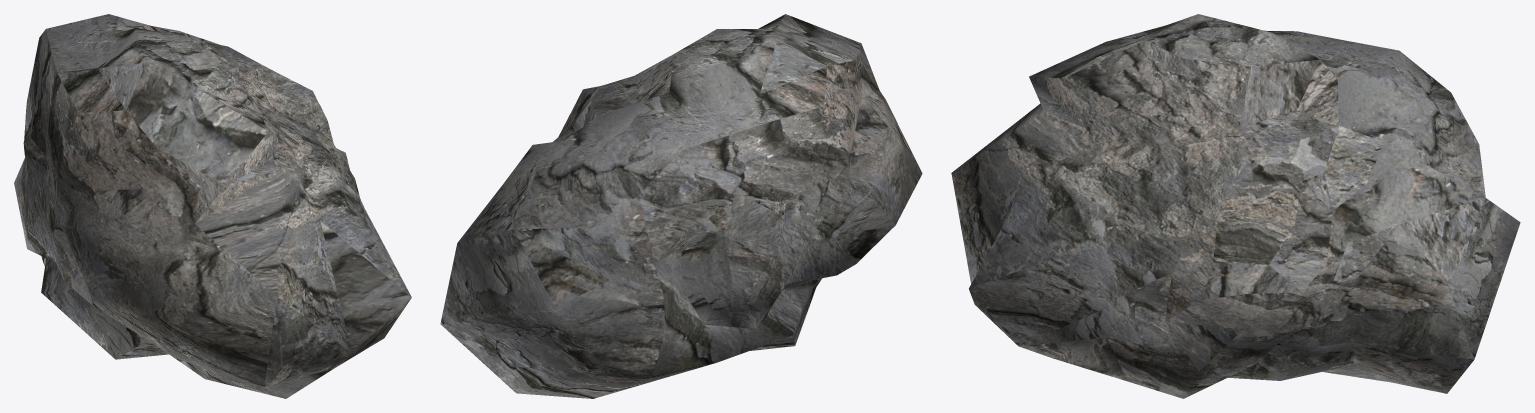
The model's file is kivi6.fbx.
The picture shows the model from 3 angles, left to right: view 1: azimuth 30°, elevation 25°; view 2: azimuth 150°, elevation 25°; view 3: azimuth 270°, elevation 25°; orthographic projection. The views are drawn at different scales.
Parts seen in each view (by area): view 1: Icosphere_001; view 2: Icosphere_001; view 3: Icosphere_001.
Part boxes in pixels (x1,y1,x2,y2): Icosphere_001: [14, 14, 411, 398]; Icosphere_001: [440, 14, 922, 398]; Icosphere_001: [951, 14, 1520, 398].
Bounding box in the file's own units: 5.17 × 4.95 × 7.92.
